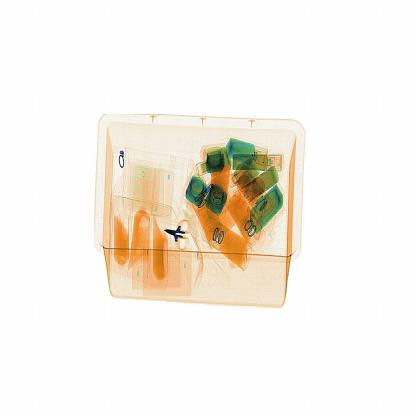gun: (162, 214, 196, 250)
